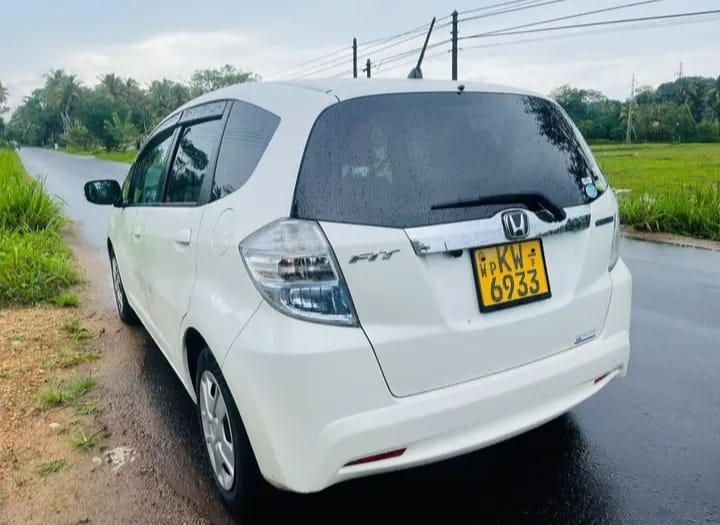number_plate: (473, 238, 549, 310)
